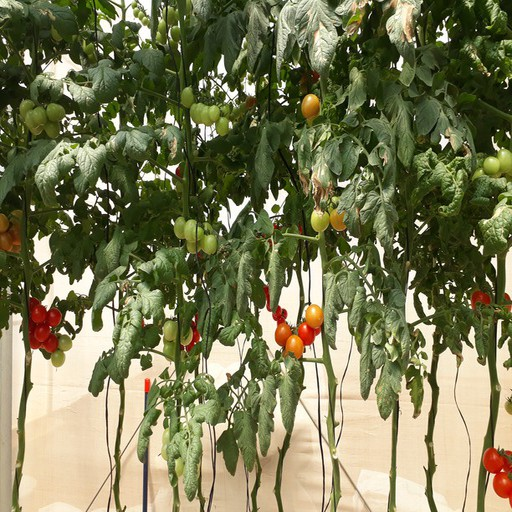green tomato bunch: (181, 86, 229, 137), (309, 195, 368, 232), (465, 147, 512, 189), (174, 215, 220, 256), (21, 102, 68, 138), (154, 1, 188, 50), (163, 319, 193, 359), (130, 2, 153, 29)
mixed tomato bunch: (1, 209, 29, 258)
red tomato bunch: (276, 302, 322, 361), (27, 296, 63, 351), (483, 448, 512, 503), (260, 285, 286, 327), (468, 290, 511, 315)
